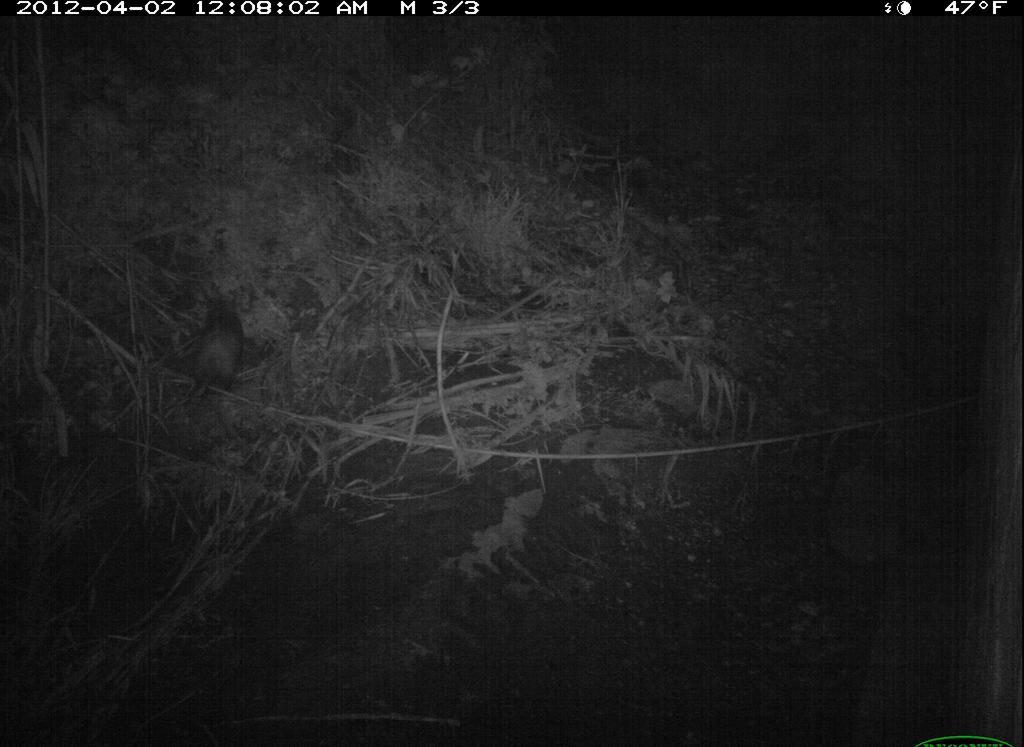opossum: (184, 294, 262, 408)
